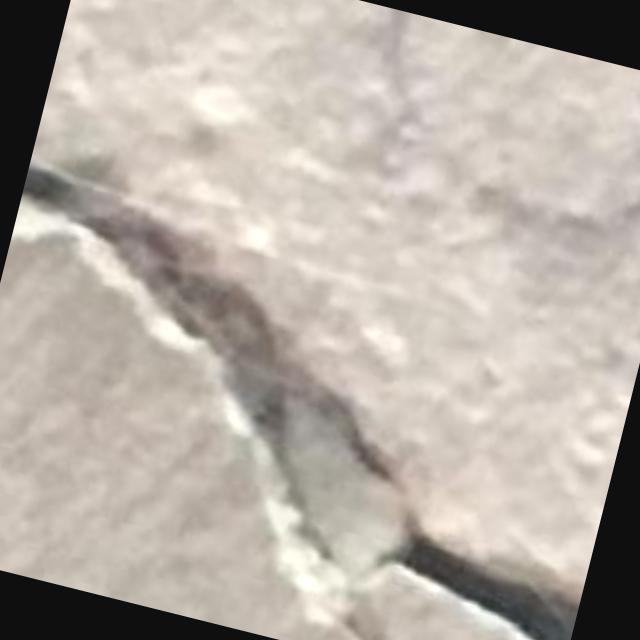crack: (12, 161, 579, 639)
